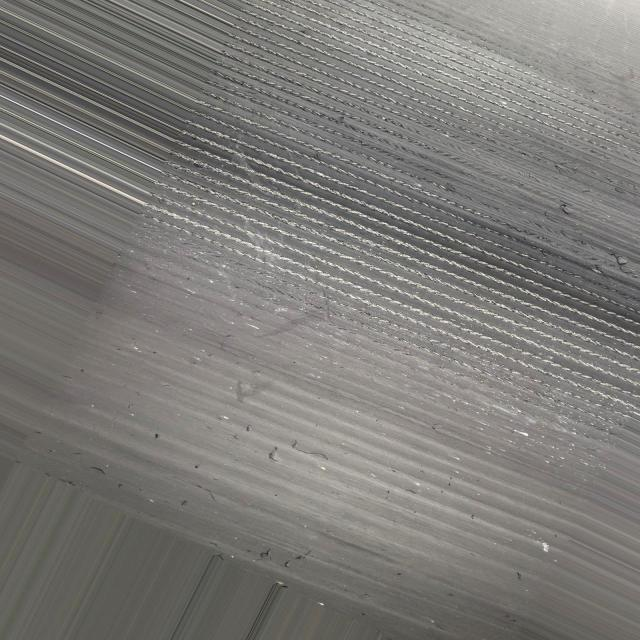Wear: (132, 1, 640, 452)
